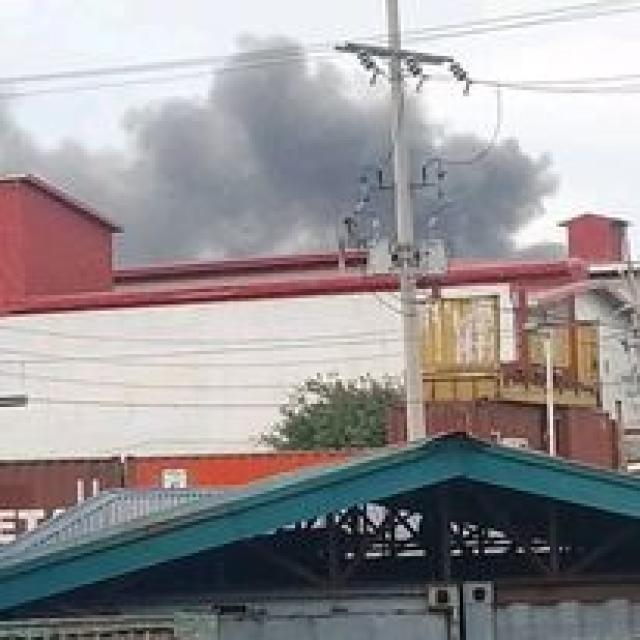Smoke: (126, 86, 366, 259), (434, 143, 560, 268)
